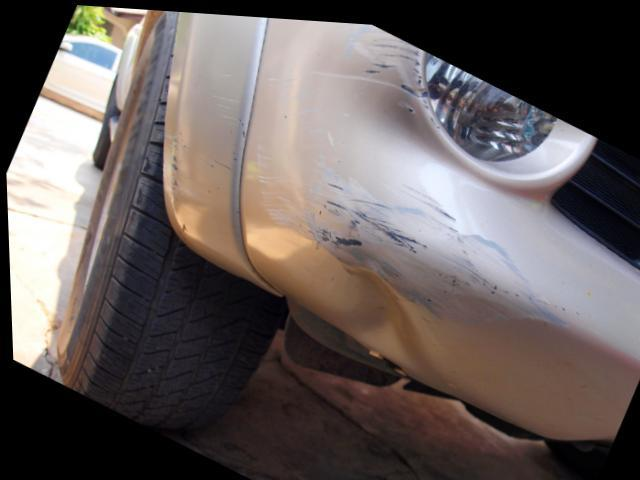dent: (343, 266, 412, 359)
scratch: (253, 137, 567, 320), (336, 18, 428, 111), (164, 127, 200, 205)
